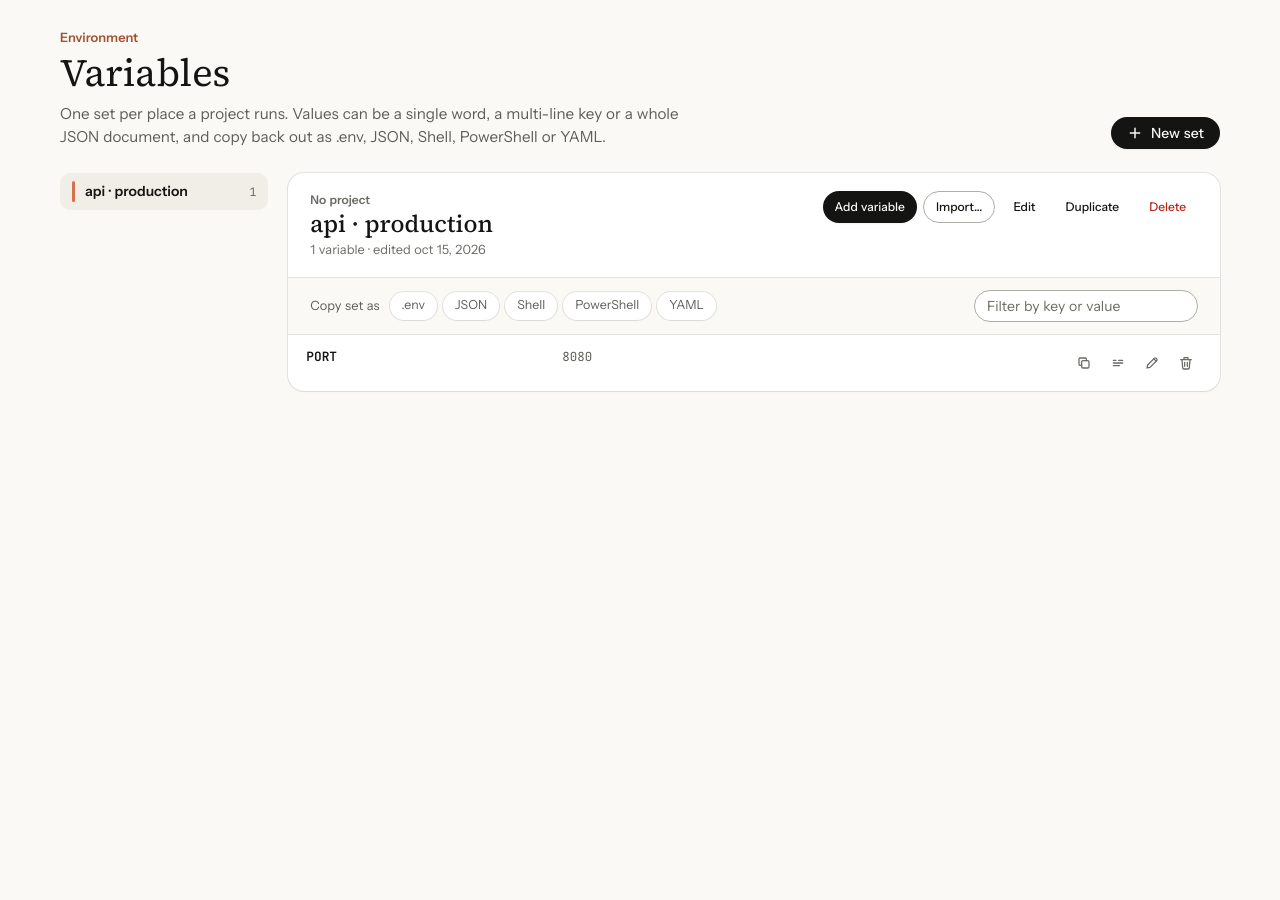
Test: EnvPage › asks before deleting a whole set
Expected: the text "8080" is shown, [562, 348, 592, 364]
Click the button "Delete".
click(1168, 207)  # box [1137, 191, 1198, 223]
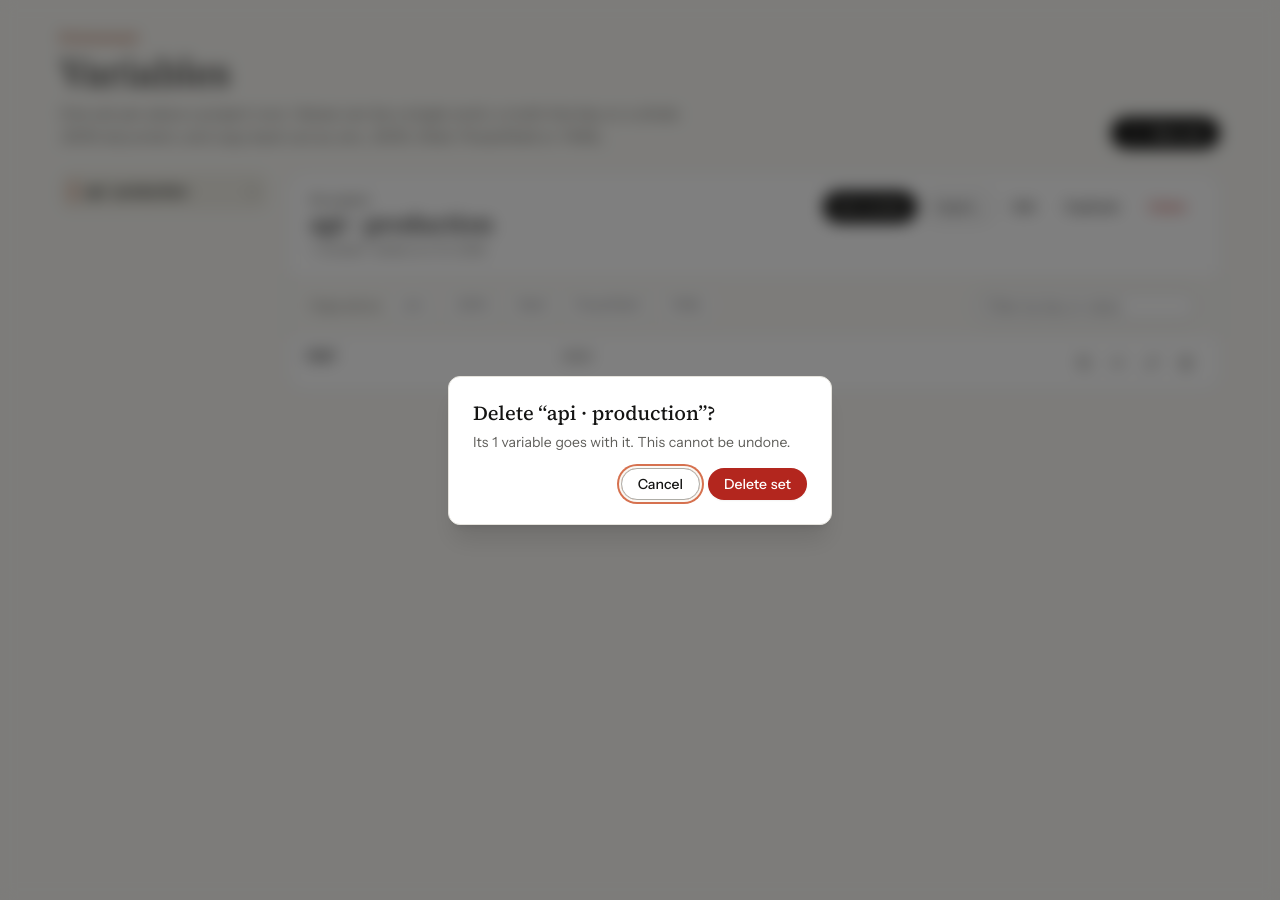
Expected: the text "Its 1 variable goes with it. This cannot be undone." is shown, [473, 432, 807, 452]
Click the button "Delete set".
click(758, 484)  # box [708, 468, 807, 500]
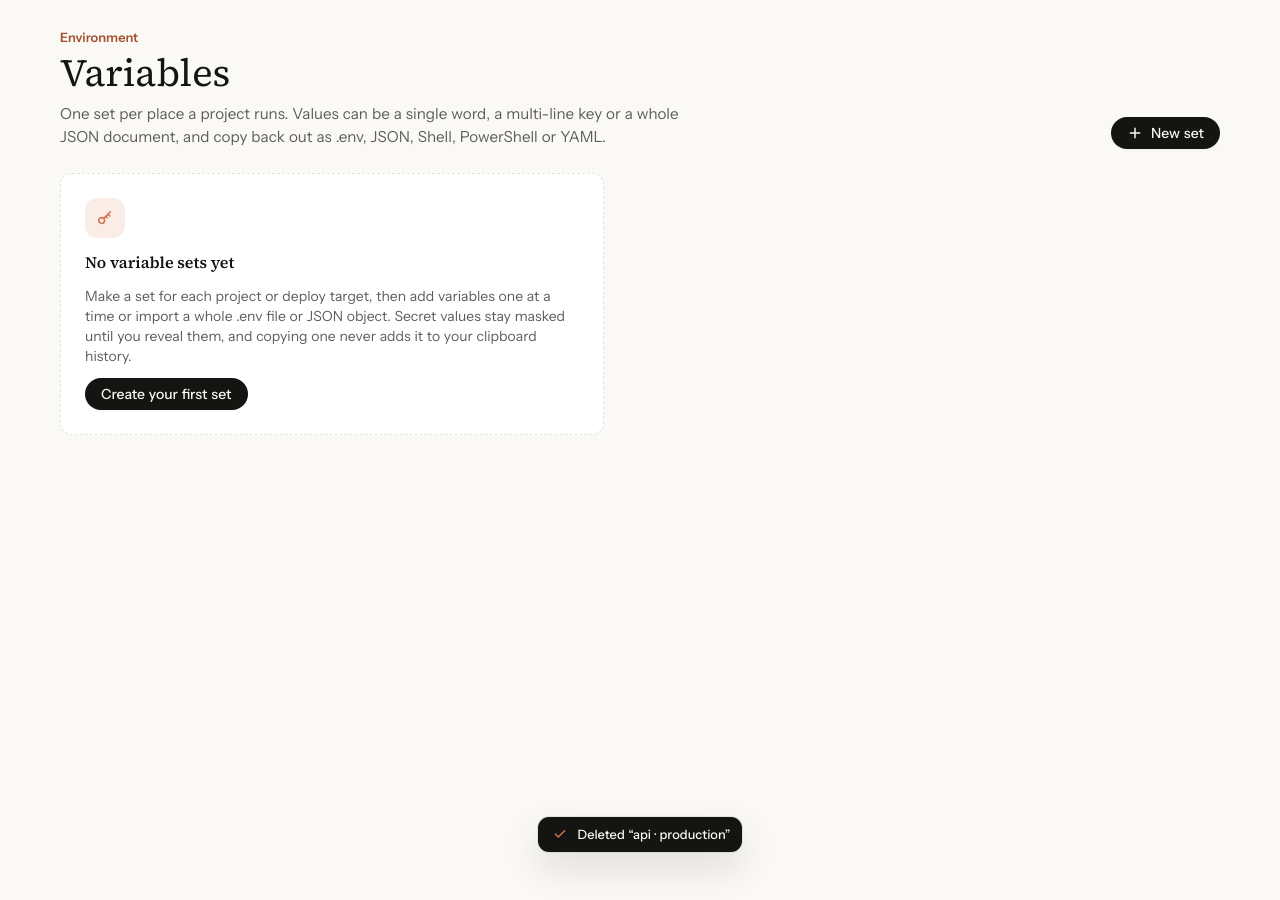
Expected: the heading "No variable sets yet" is shown, [85, 250, 234, 274]
